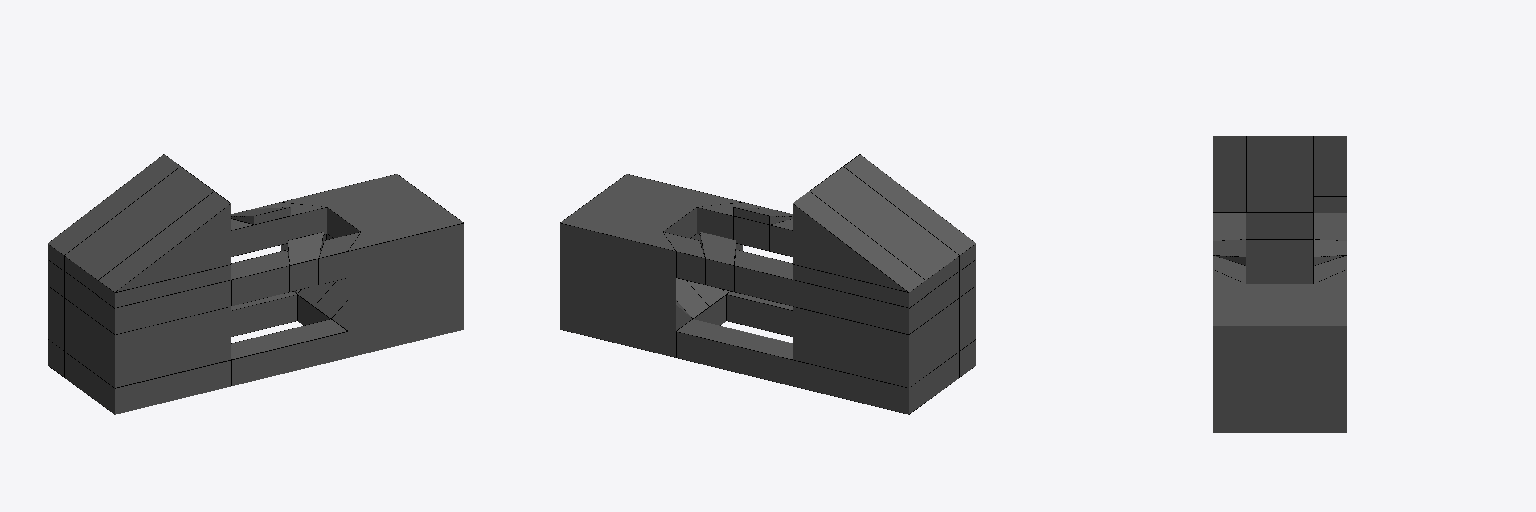
The picture shows the model from 3 angles: view 1: azimuth 30°, elevation 25°; view 2: azimuth 150°, elevation 25°; view 3: azimuth 270°, elevation 25°; orthographic projection.
Visible parts, largest first — view 1: lift_base_Cube.002; view 2: lift_base_Cube.002; view 3: lift_base_Cube.002.
Part boxes in pixels (x1,y1,x2,y2): lift_base_Cube.002: (48,154,463,414); lift_base_Cube.002: (560,154,975,414); lift_base_Cube.002: (1213,136,1346,432).
Size of the model in its own units: 6 by 3.01 by 2.
1 materials, 1 textured.